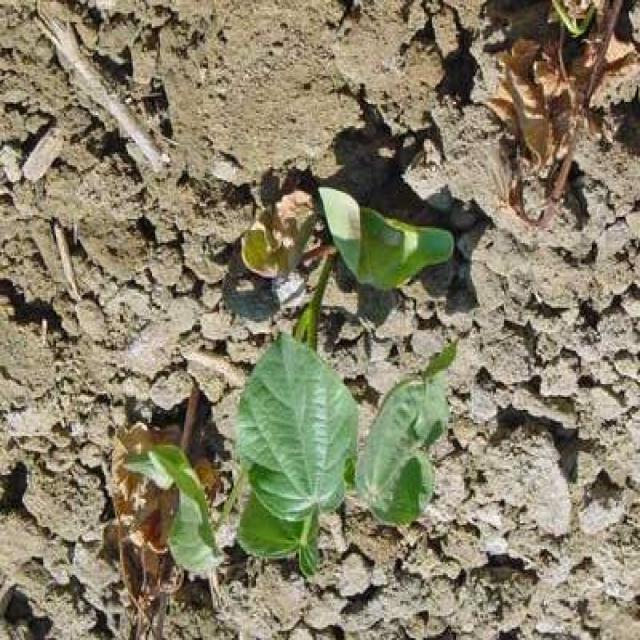Fusarium Wilt: (89, 266, 416, 627)
